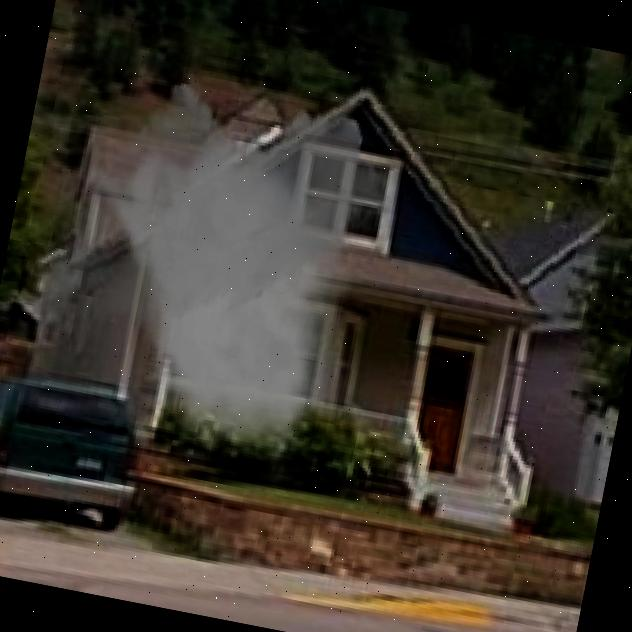smoke: (0, 50, 413, 493)
